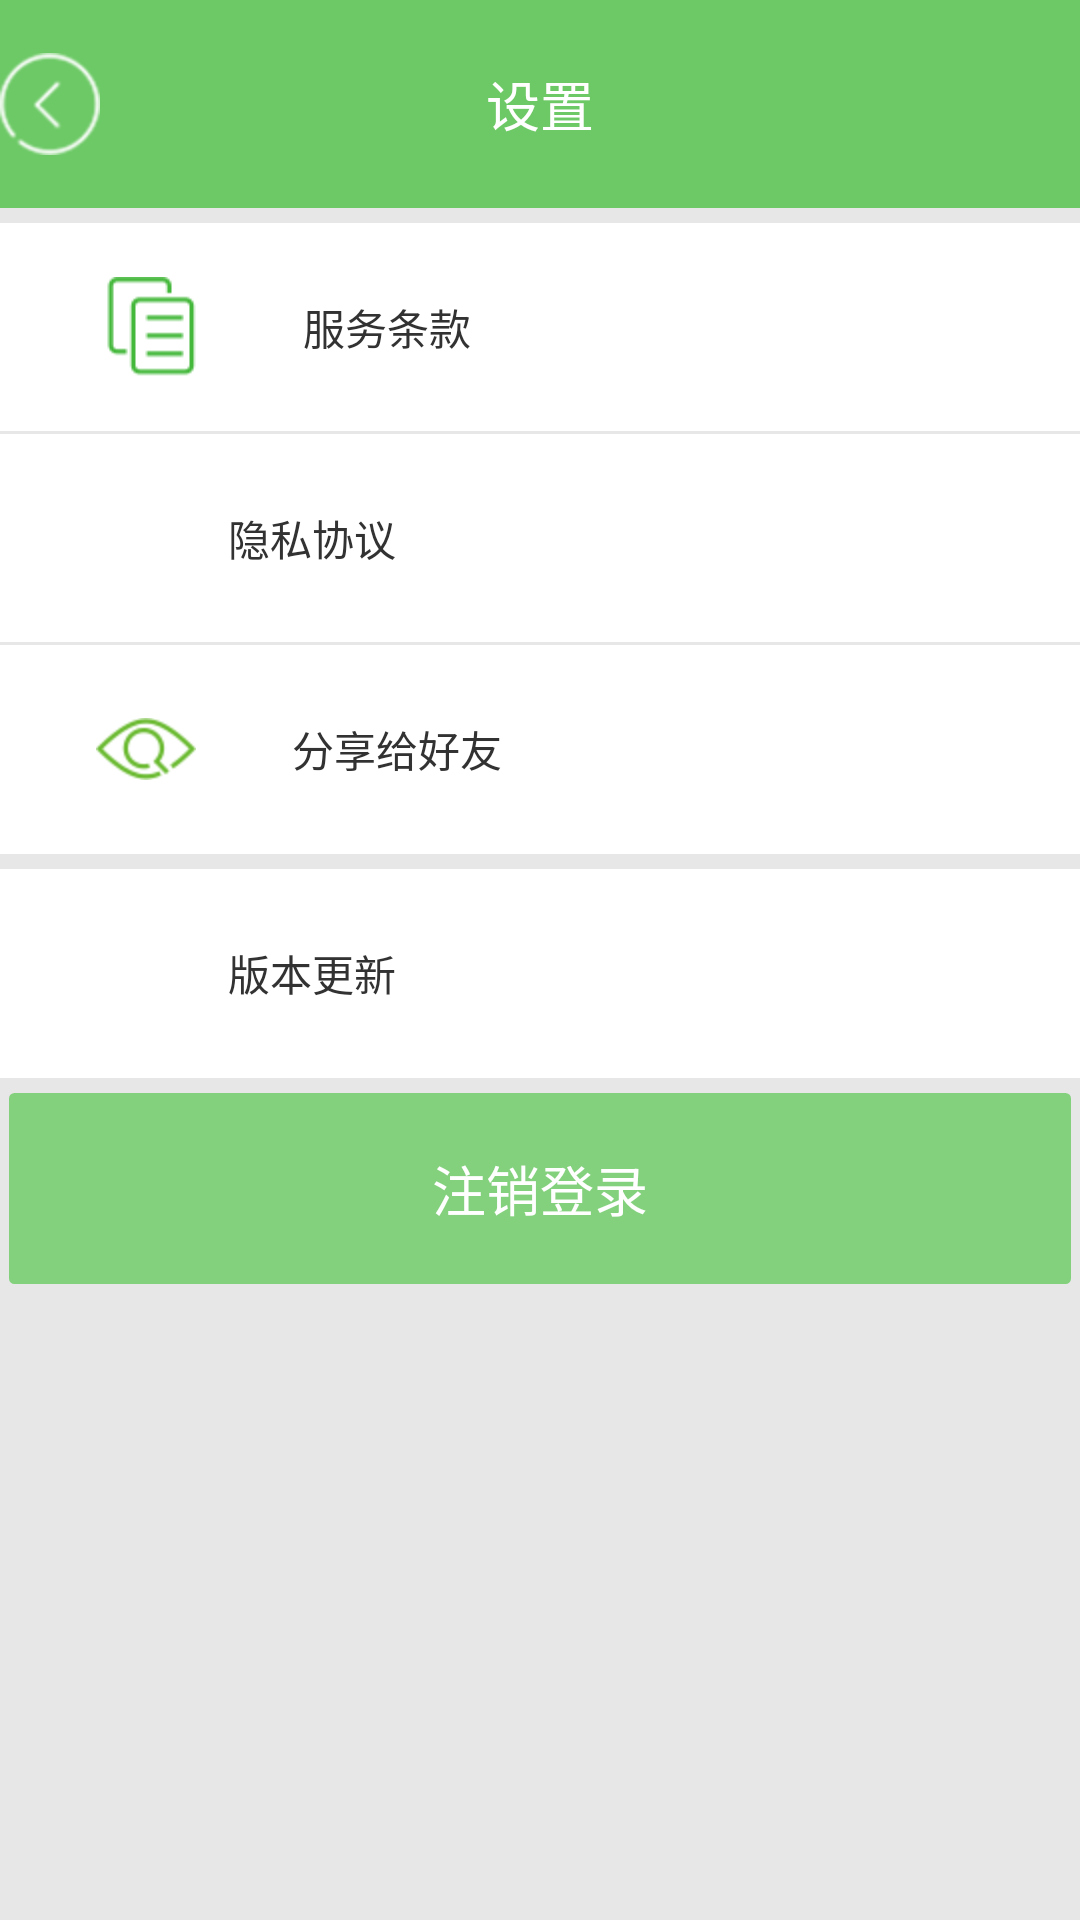

Where to tap for icons on this 1080*1920 app screen, as [x,y]:
back up: [50,104]
